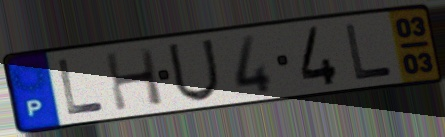4: (231, 33, 275, 96), (299, 24, 340, 88)
H: (101, 45, 167, 113)
L: (341, 22, 396, 82), (55, 57, 108, 117)
U: (165, 37, 222, 104)
